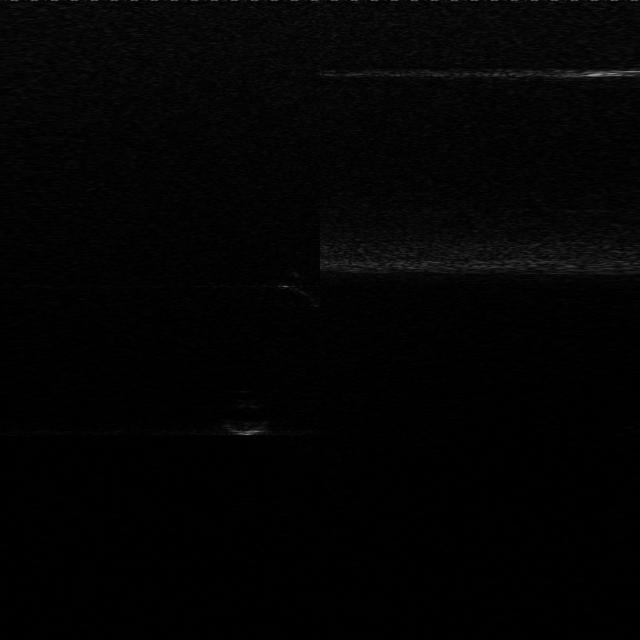ball: (206, 389, 286, 439)
tyre: (263, 271, 326, 312)
